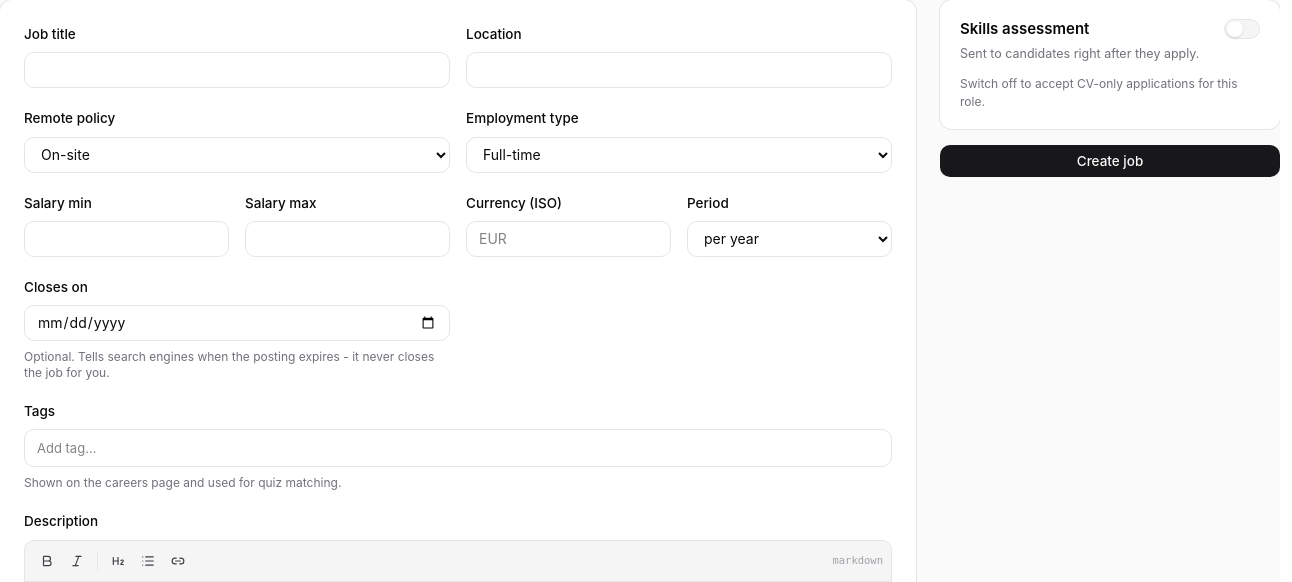
Test: JobForm › wraps the description selection via the markdown toolbar
Click the button named "Bold".
click(47, 560)  # box [33,546,61,574]
(page scrolled)
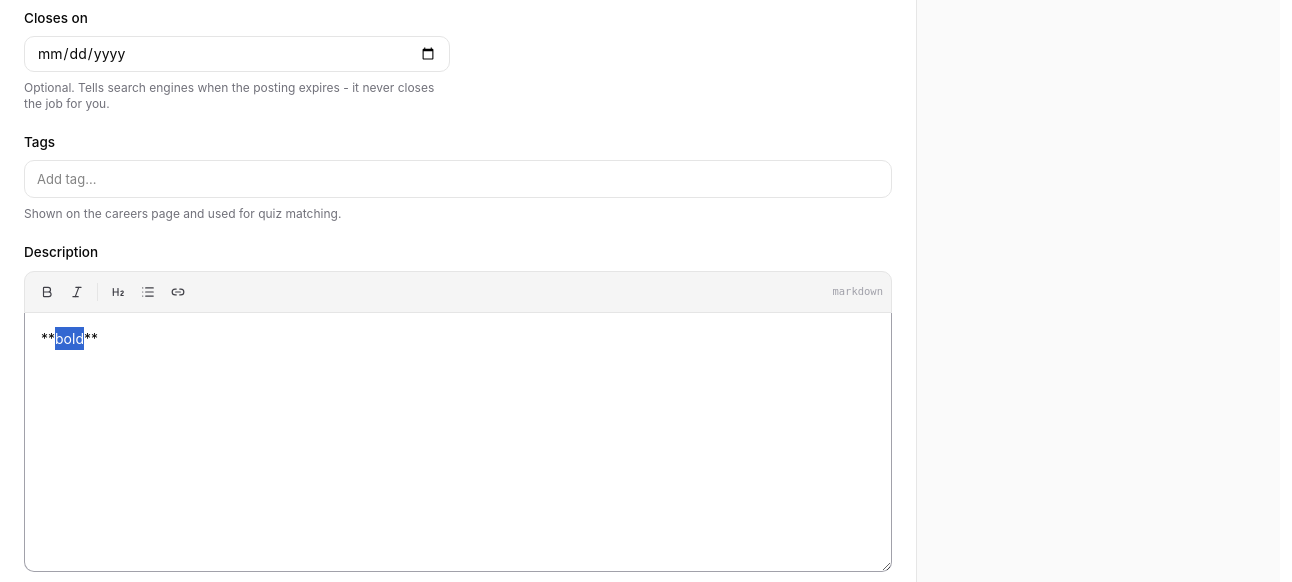
Expected: the text box labelled "Description" holds "**bold**", [24,312,892,572]
